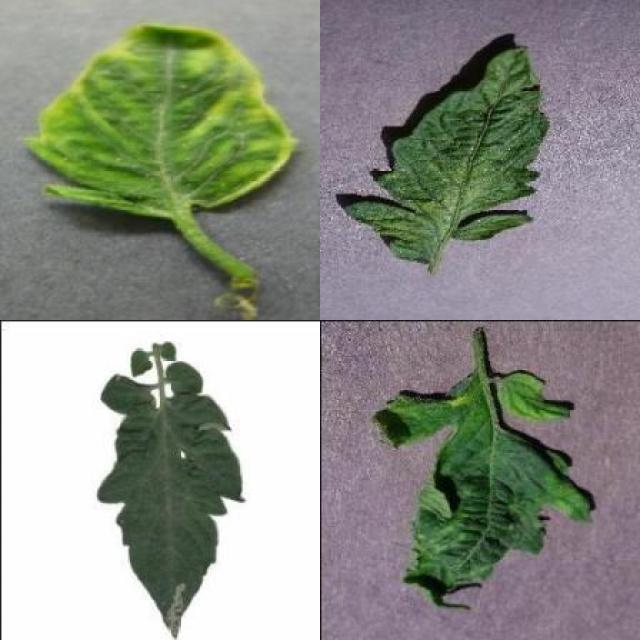Leaf Miner: (90, 391, 244, 640)
Mosaic Virus: (370, 369, 590, 614), (342, 48, 548, 265)
Yellow Leaf Curl Virus: (20, 23, 299, 216)
